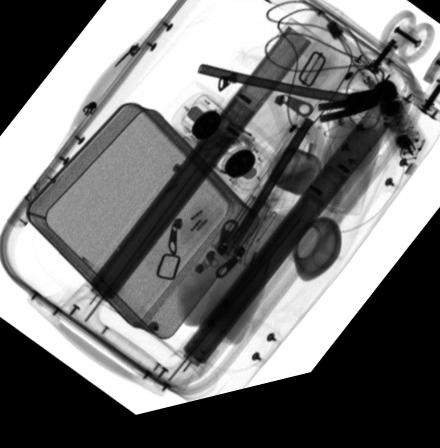Hammer: (197, 72, 397, 138)
